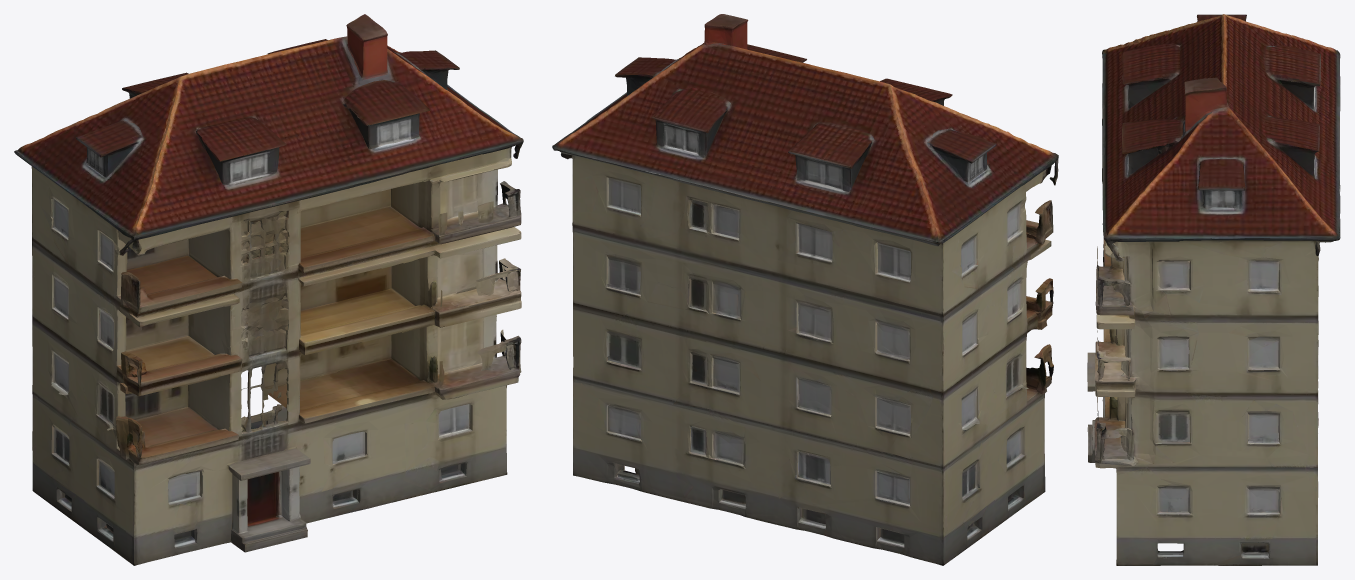
Rendered from haus.glb.
The picture shows the model from 3 angles, left to right: view 1: azimuth 30°, elevation 25°; view 2: azimuth 150°, elevation 25°; view 3: azimuth 270°, elevation 25°; orthographic projection.
Parts seen in each view (by area): view 1: geometry_0; view 2: geometry_0; view 3: geometry_0.
Boxes of the visible parts, left/top/right/bottom form: geometry_0: left=14, top=14, right=523, bottom=565; geometry_0: left=552, top=14, right=1058, bottom=565; geometry_0: left=1087, top=14, right=1340, bottom=565.
Bounding box in the file's own units: 0.9425 × 0.9996 × 0.5249.
1 material, 1 textured.
